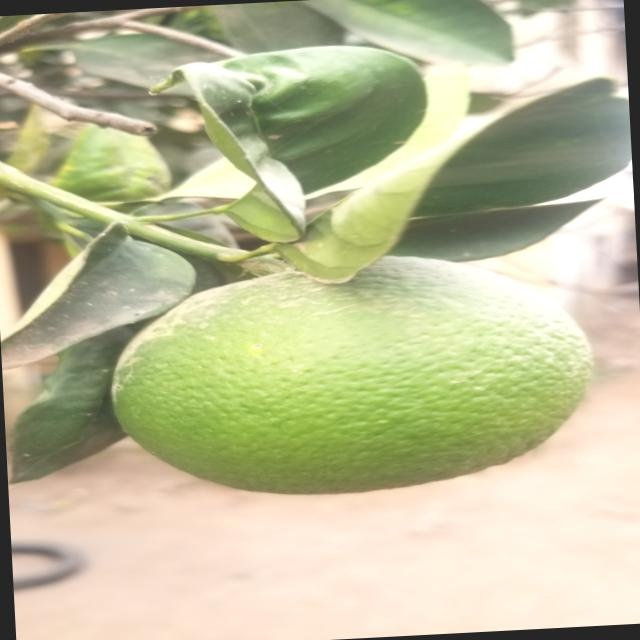agrume: (102, 248, 607, 516)
